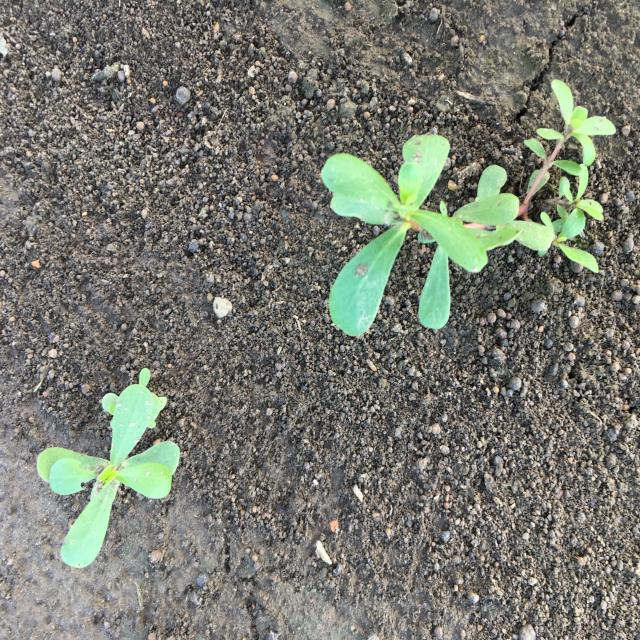Purslane: (321, 79, 616, 337), (37, 368, 180, 569)
